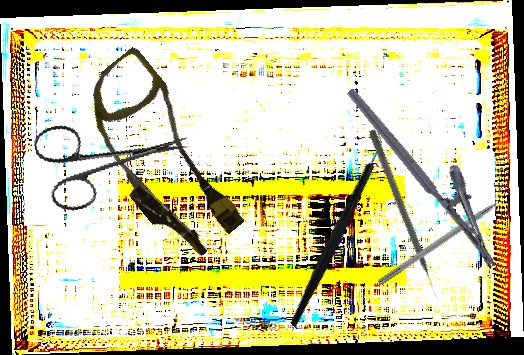Cannula: (57, 45, 265, 268)
Chopper: (231, 125, 440, 331)
Hook Surgical: (377, 189, 516, 288)
Iris Scissors: (31, 98, 198, 216)
Needle Holder: (345, 67, 522, 271)
Pusher: (366, 128, 441, 302)
